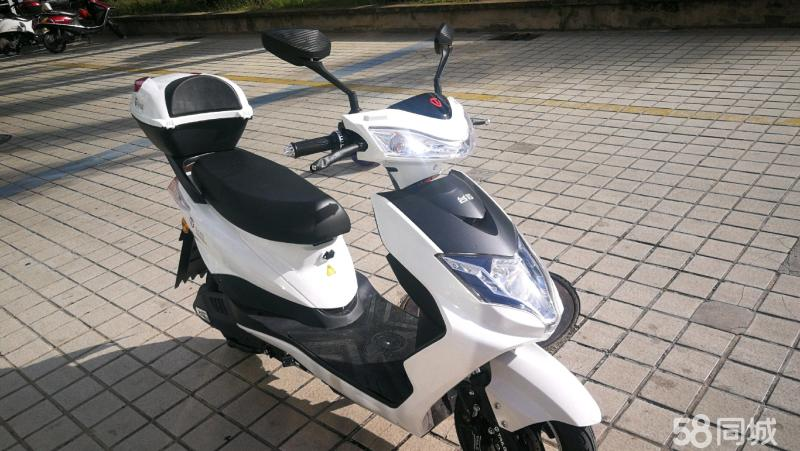电动车: (119, 10, 628, 451)
